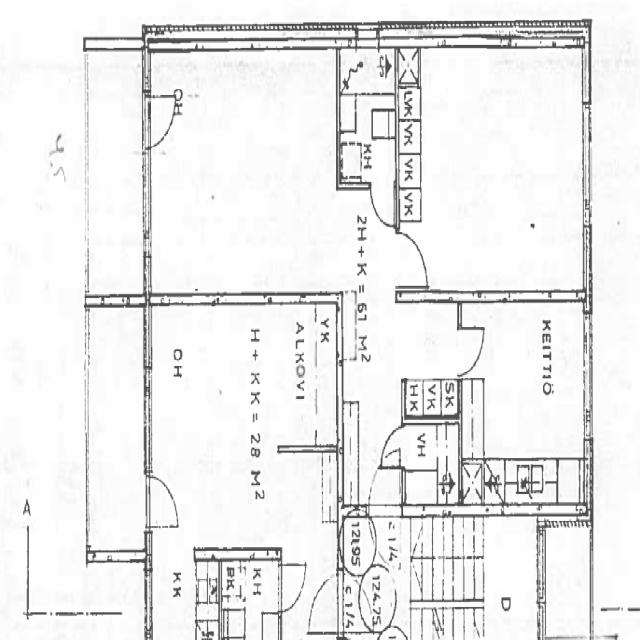door: (369, 448, 400, 518), (369, 505, 400, 574), (142, 98, 178, 148), (395, 232, 428, 286), (458, 329, 487, 374), (370, 183, 393, 230), (379, 427, 405, 467)
